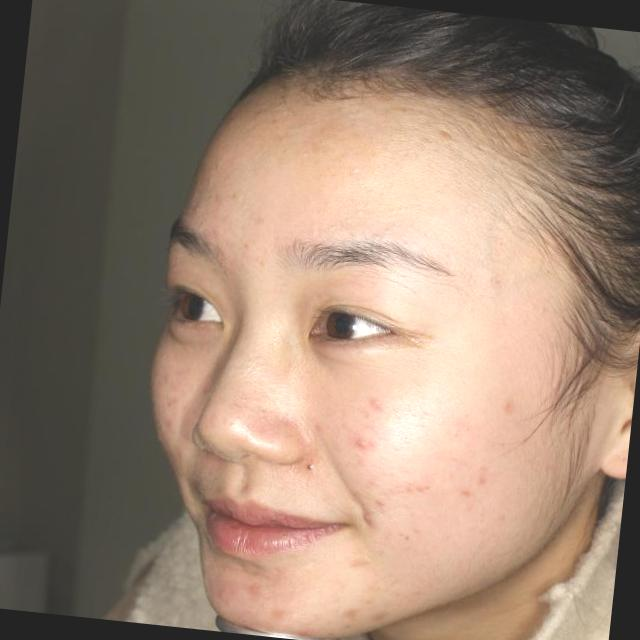acne: (347, 425, 382, 461), (242, 578, 268, 612), (364, 386, 390, 416), (368, 604, 398, 630), (266, 600, 290, 629), (496, 392, 524, 416), (342, 600, 360, 625)
